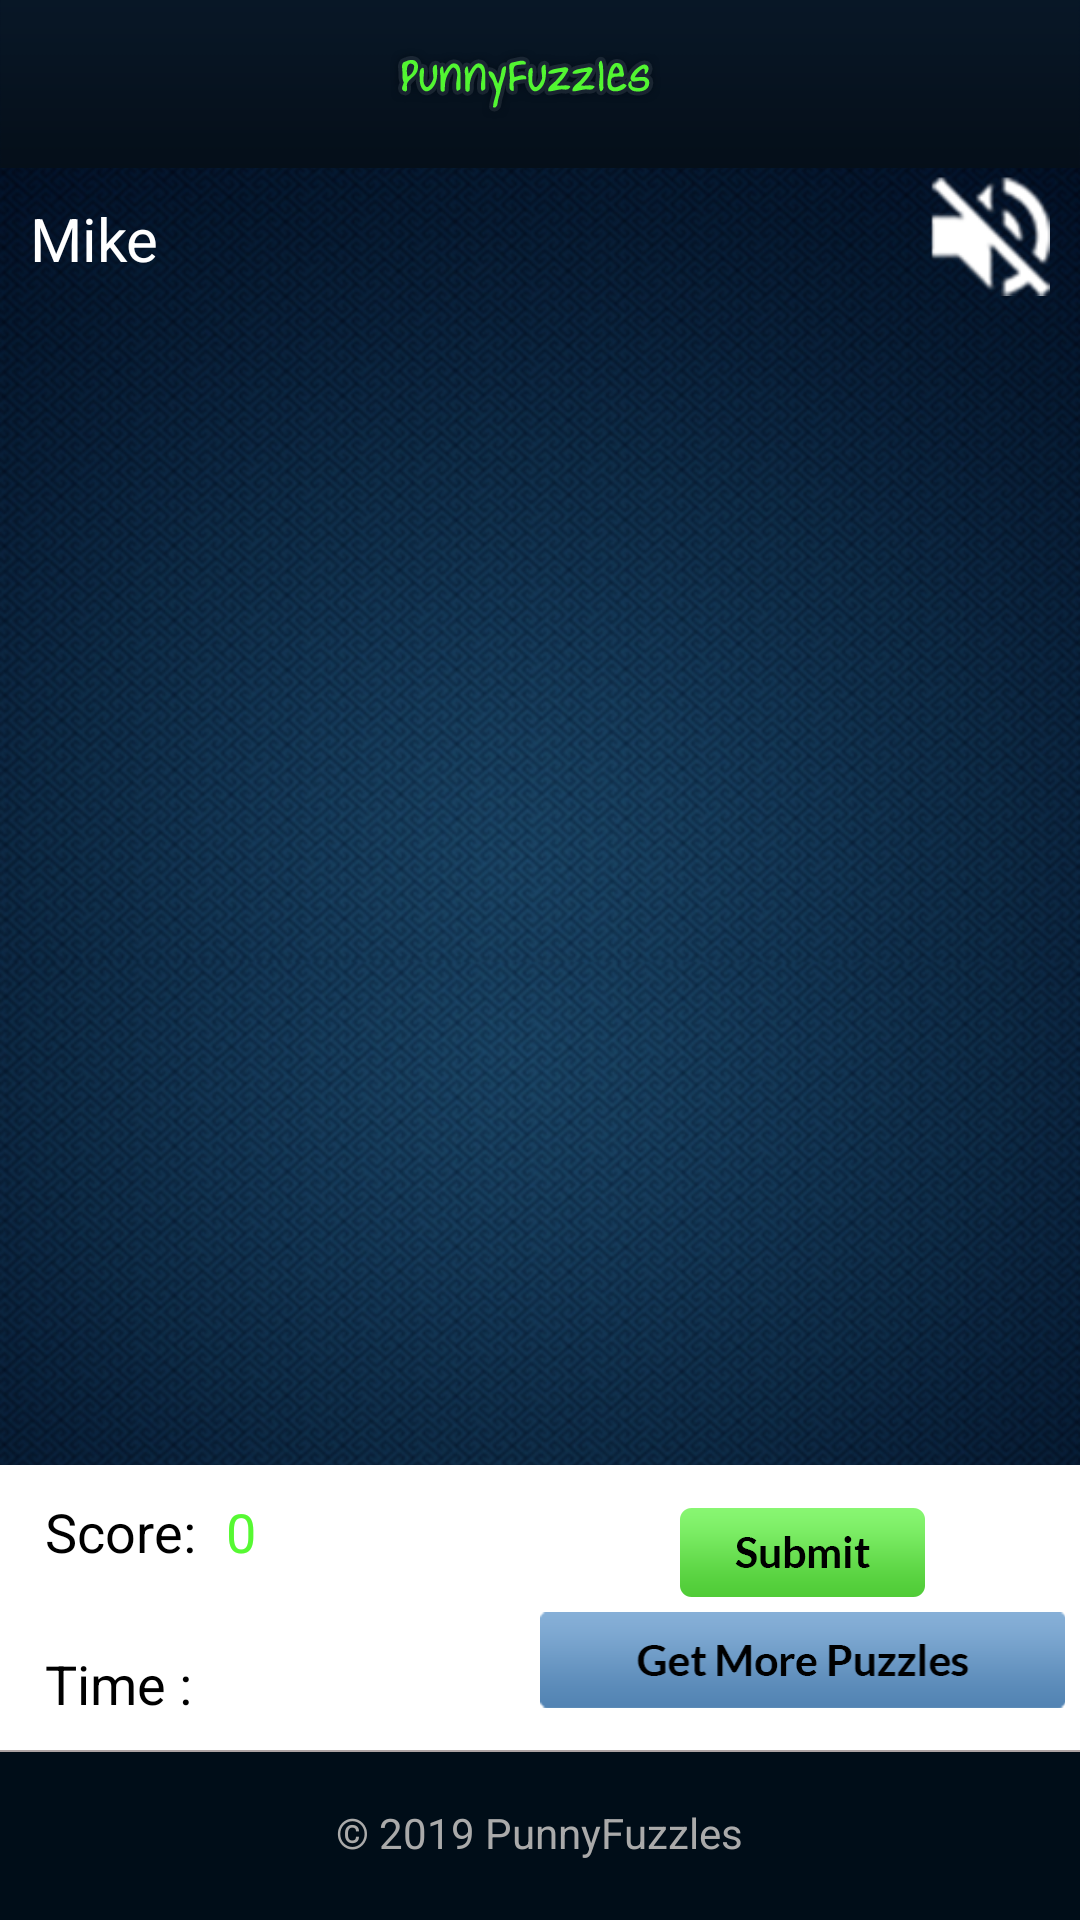

Locate icon controls on the screen. Image size 1080px x 1920px, boxes as rect(x1, y1, x2, y2).
volume off indicatornew: rect(931, 177, 1050, 296)
